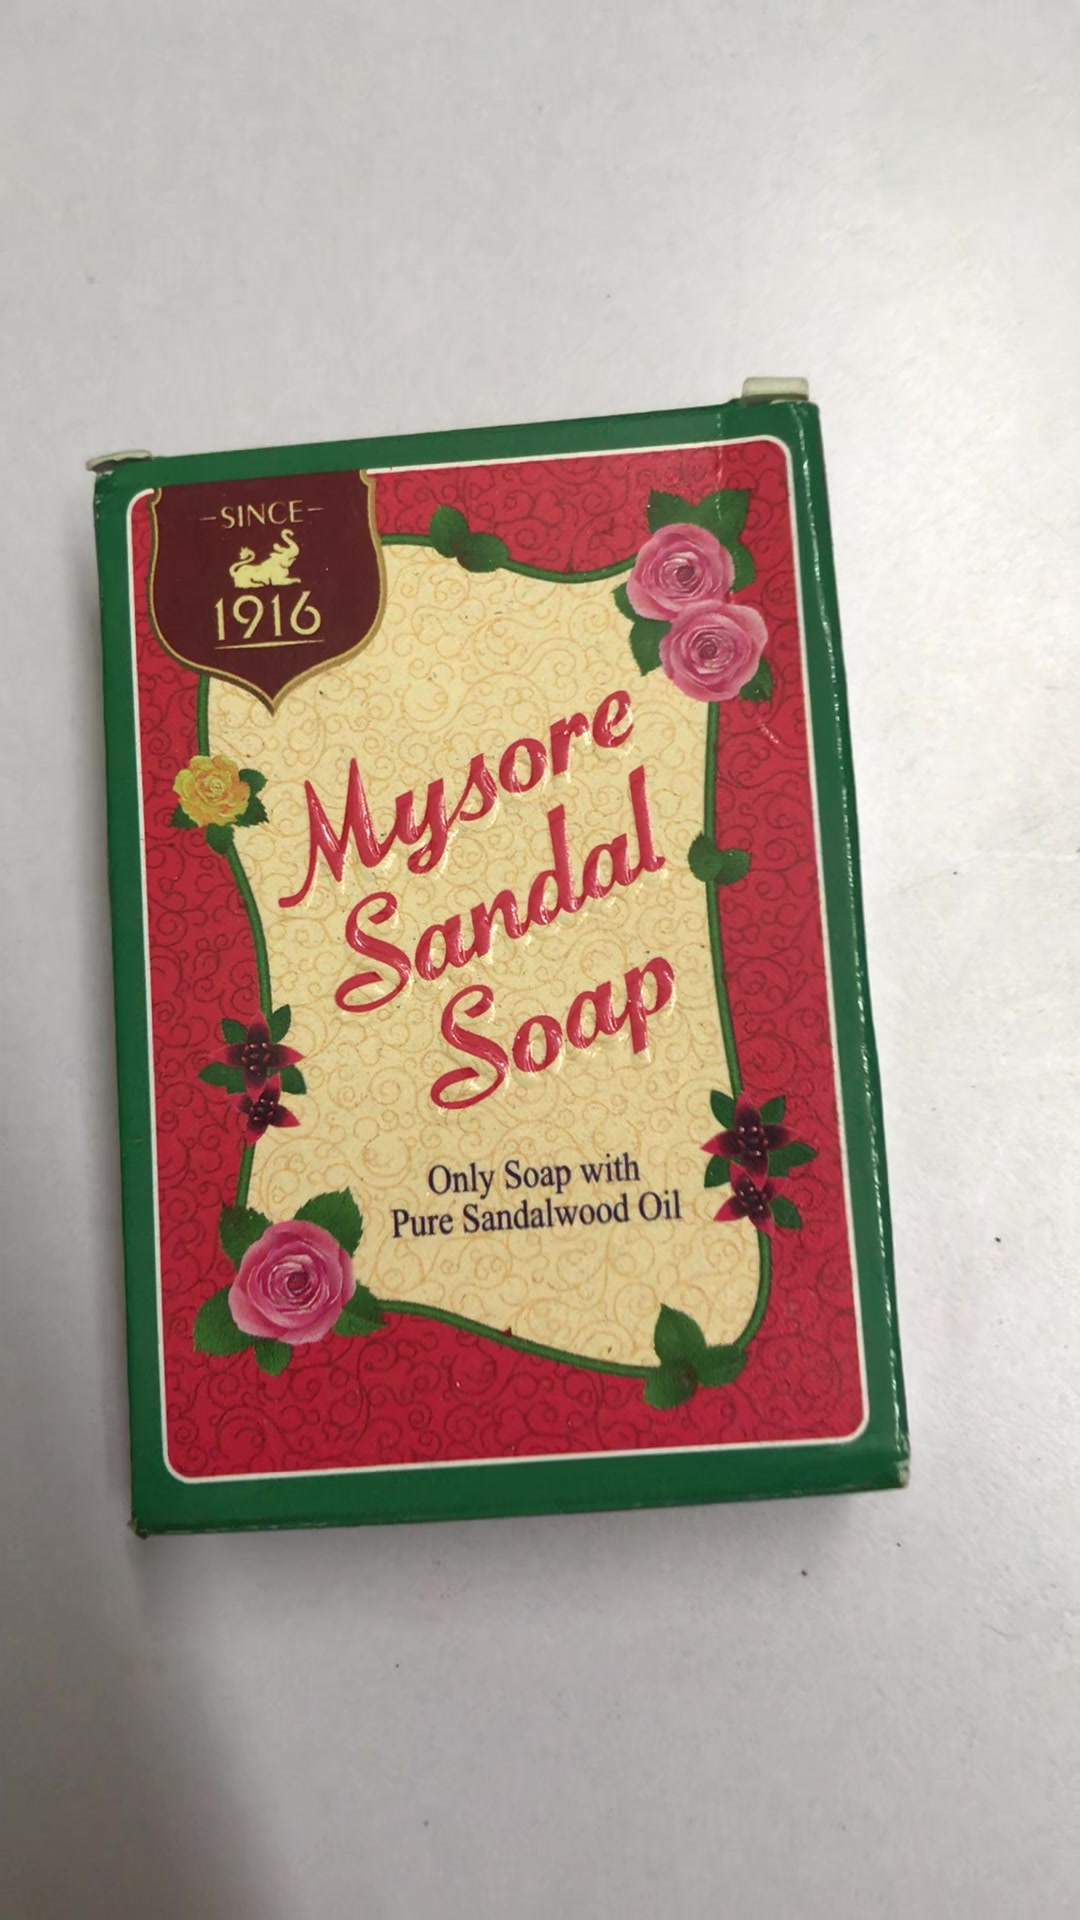mysore sandal soap: (95, 396, 907, 1536)
